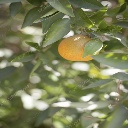orange: (54, 31, 102, 63)
